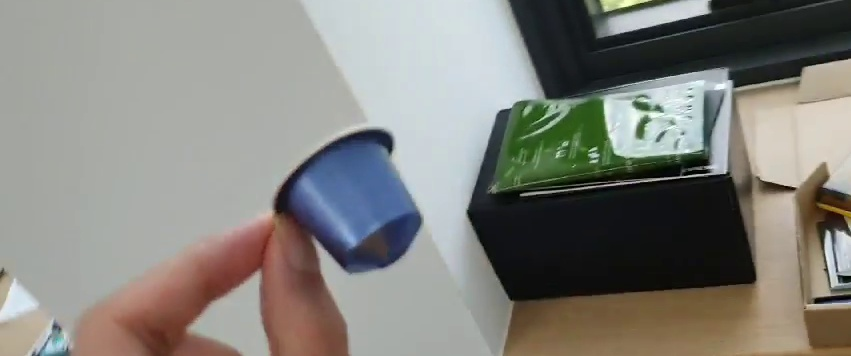capsule_7: (269, 124, 422, 275)
